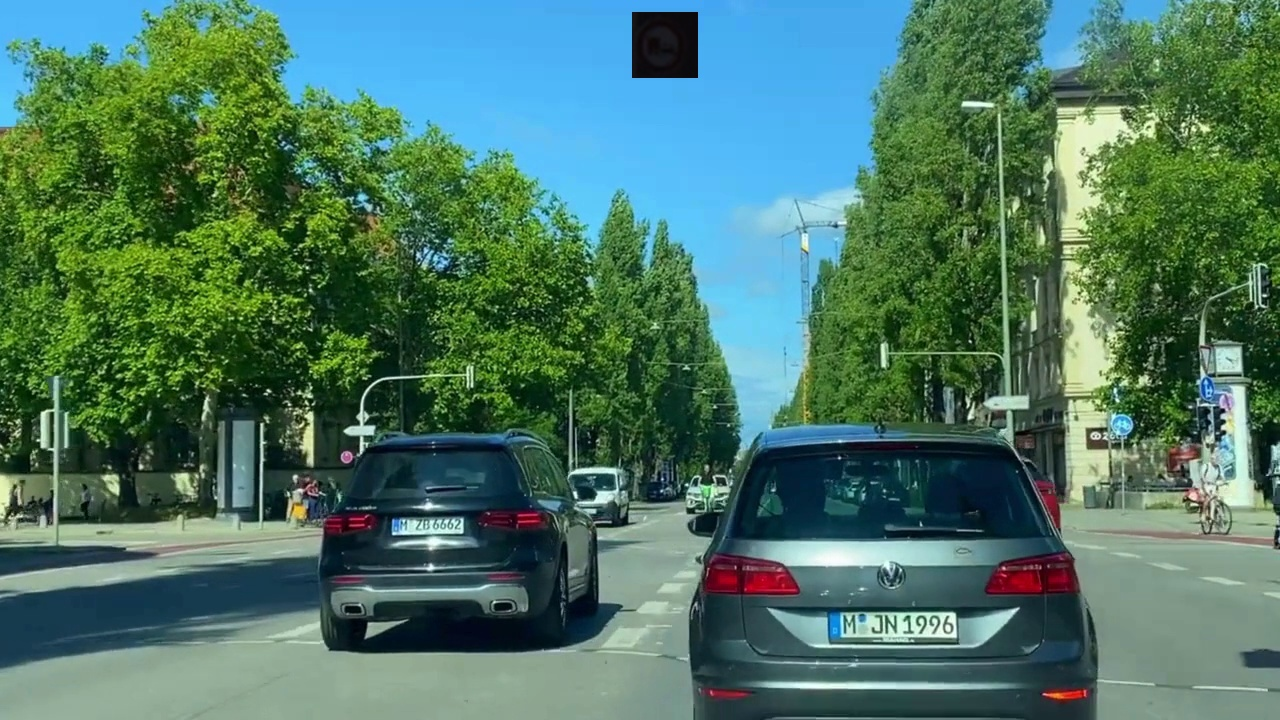No pass >3.5t: (632, 12, 698, 78)
